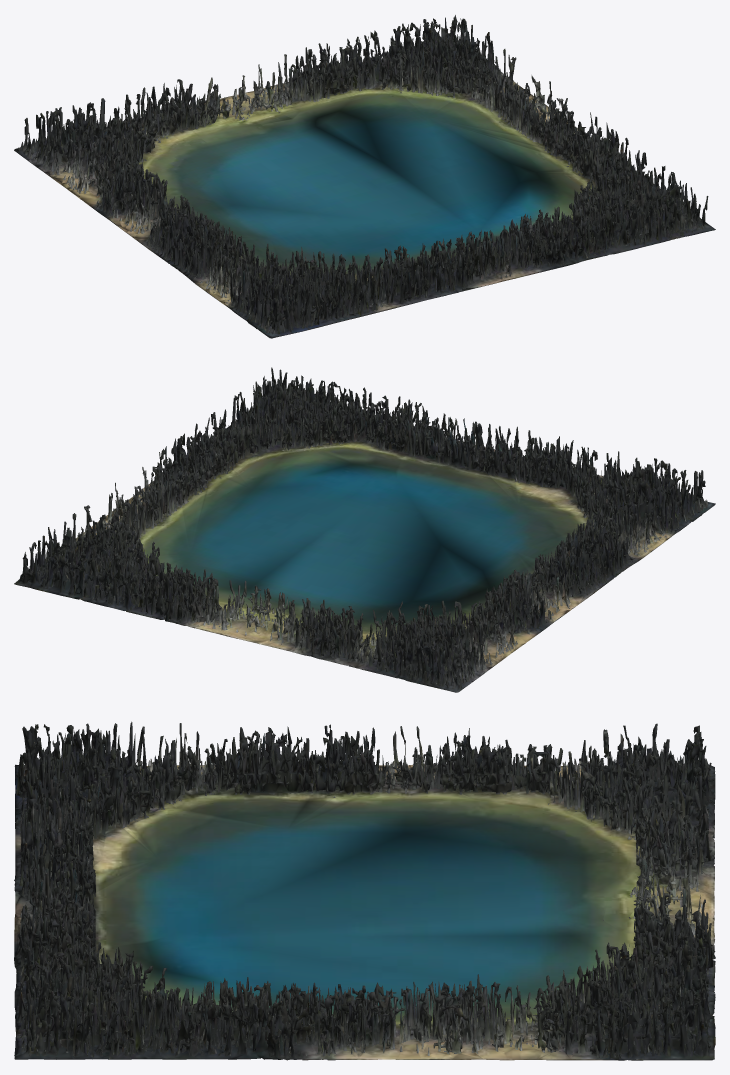
Rendered from pond.glb.
3 views of the same model, one above another, from view 1: azimuth 30°, elevation 25°; view 2: azimuth 150°, elevation 25°; view 3: azimuth 270°, elevation 25° (orthographic). The views are drawn at different scales.
Size of the model in its own units: 2 by 0.2133 by 2.
Materials: 1 (1 with a texture image).
